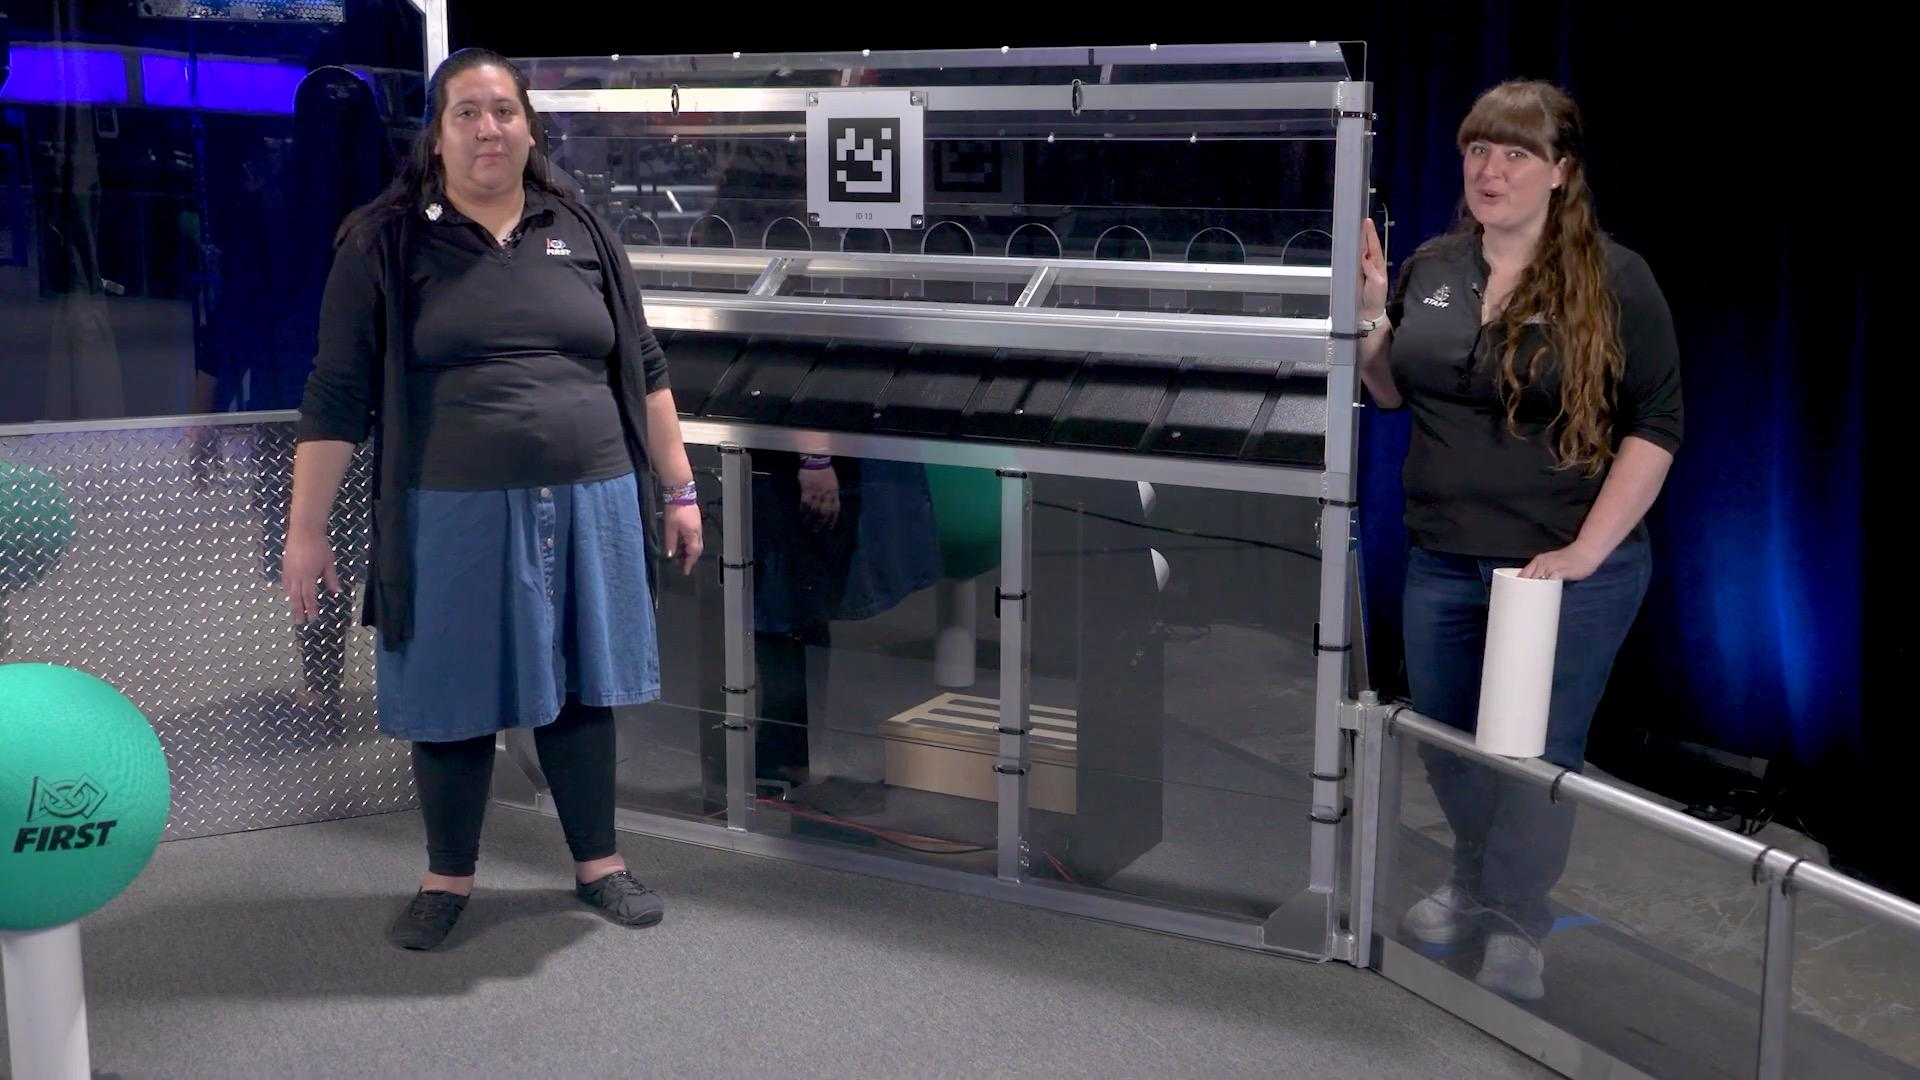ALGAE: (0, 663, 171, 934)
CORAL: (1472, 566, 1565, 760), (0, 924, 94, 1080)
